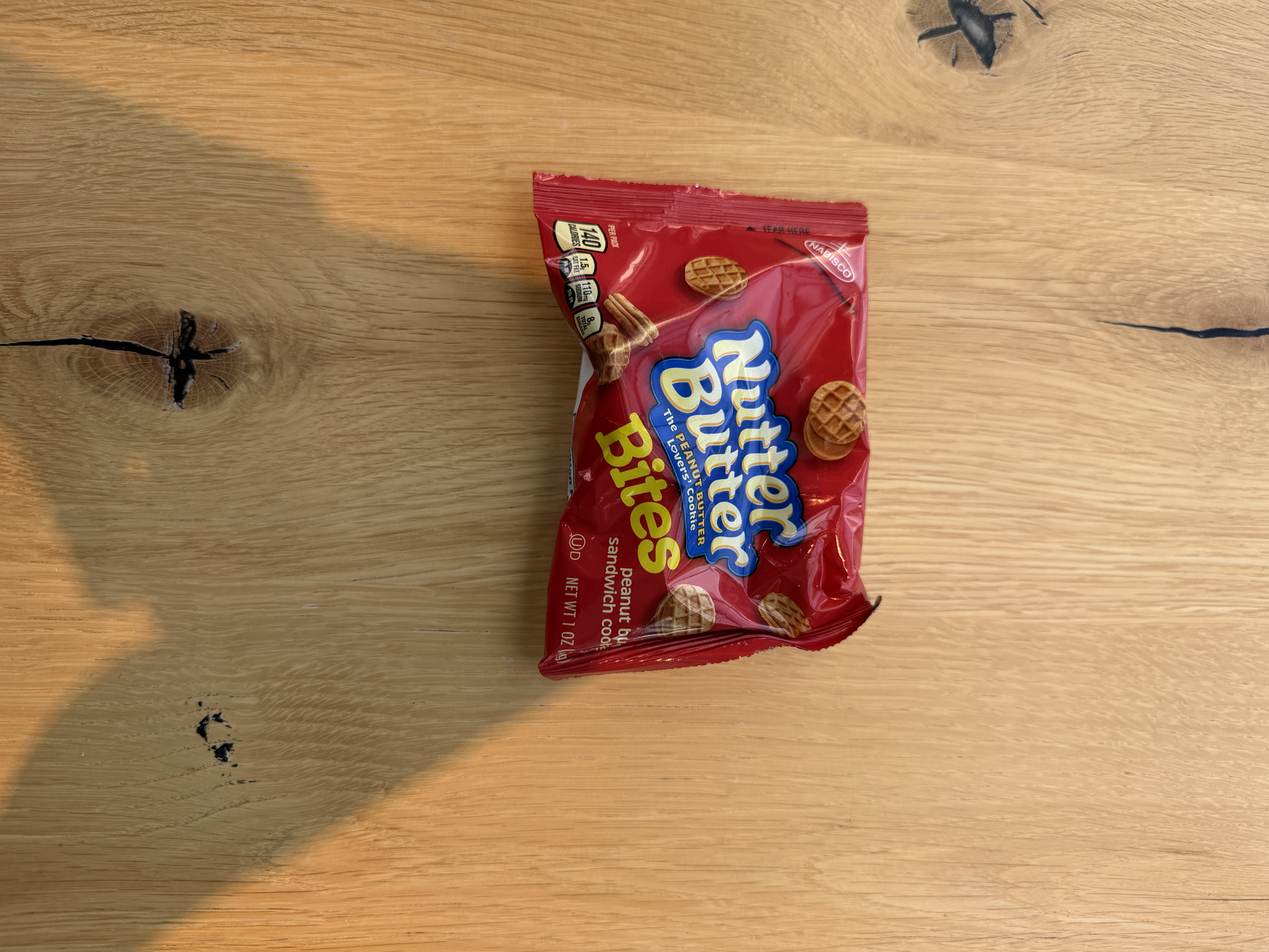nutter_butter: (516, 147, 897, 683)
